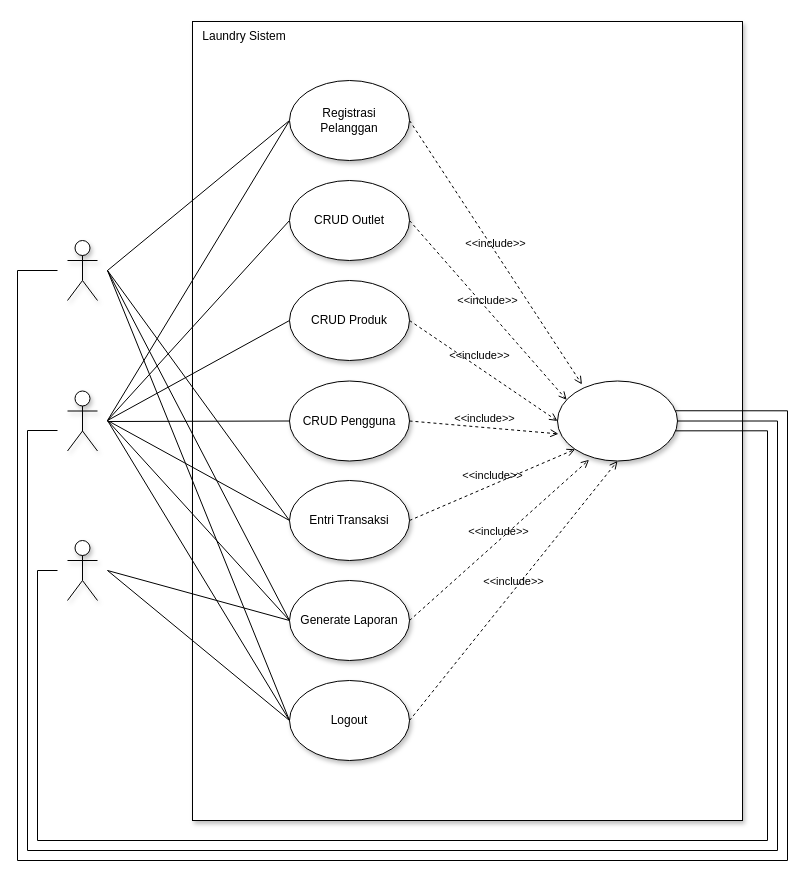
Image size: 806x879. Some labels were removed from this diagram. The centre of each missing label's shape, as x and y in pixels:
Admin: the point at 83,422
Kasir: the point at 83,272
Login: the point at 618,422
Owner: the point at 83,572
